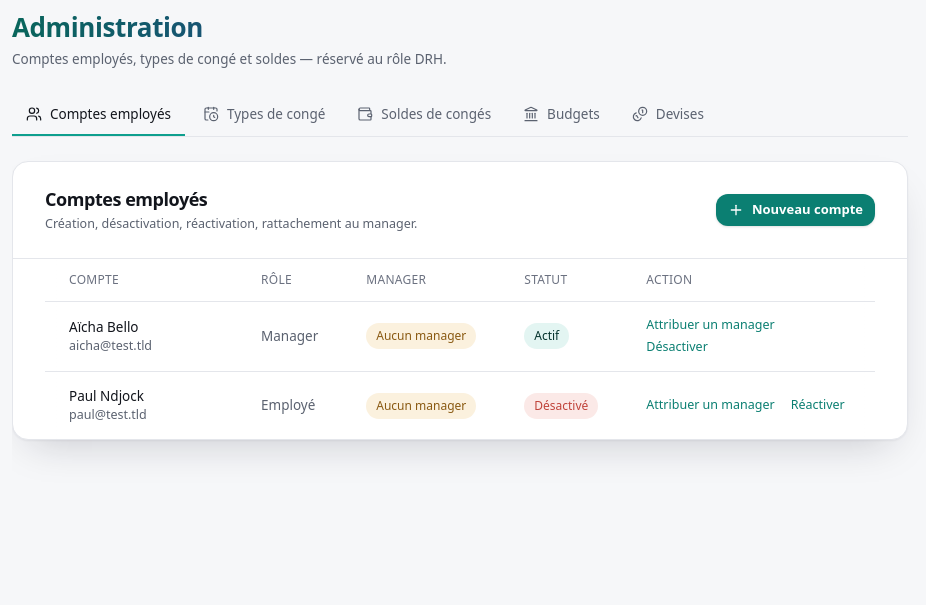
AdminPage — onglet Budgets › liste les enveloppes avec le solde, en rouge si dépassement accepté
Check: the text "Aïcha Bello" is shown, box x1=69 y1=318 x2=138 y2=336
Click the button "Budgets".
click(561, 115)  # box x1=509 y1=94 x2=614 y2=136
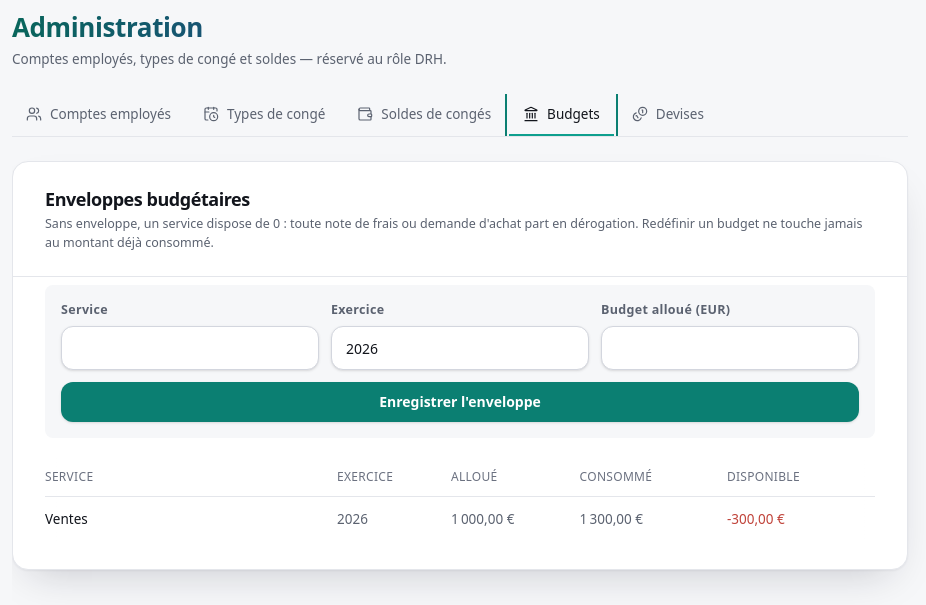
Check: the heading "Enveloppes budgétaires" is shown, box x1=45 y1=187 x2=250 y2=211
Check: the text "Ventes" is shown, box x1=45 y1=496 x2=337 y2=541
